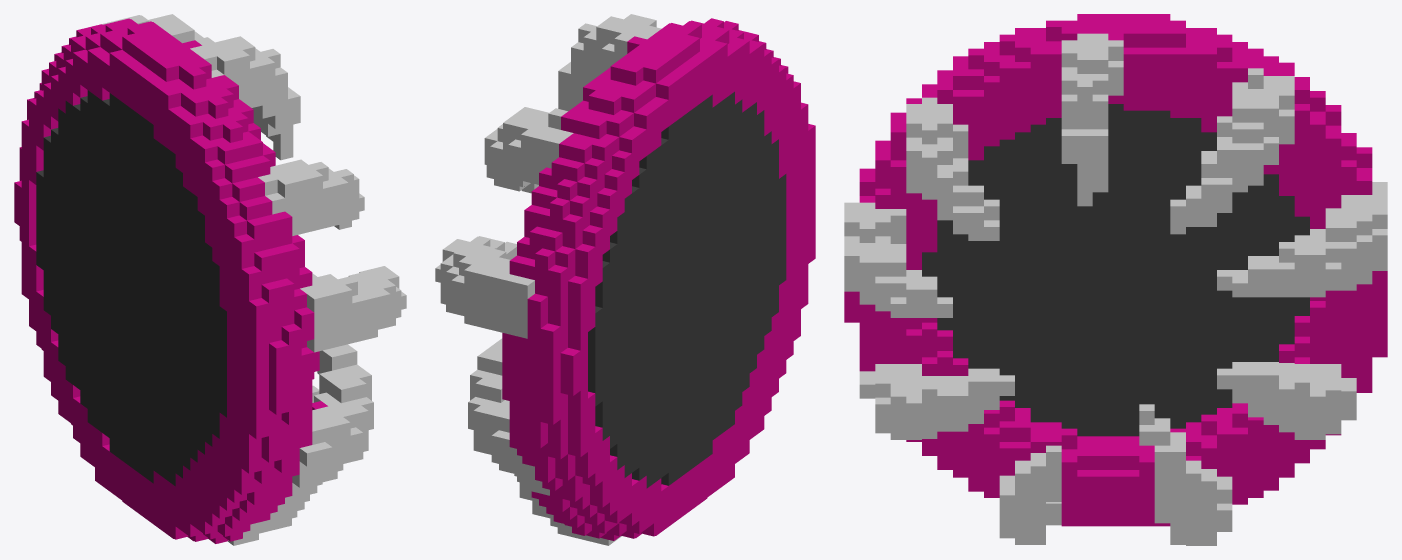
3 renders of one model, left to right at view 1: azimuth 30°, elevation 25°; view 2: azimuth 150°, elevation 25°; view 3: azimuth 270°, elevation 25°, orthographic. The views are drawn at different scales.
Bounding box in the file's own units: 0.65 × 1.75 × 1.75.
